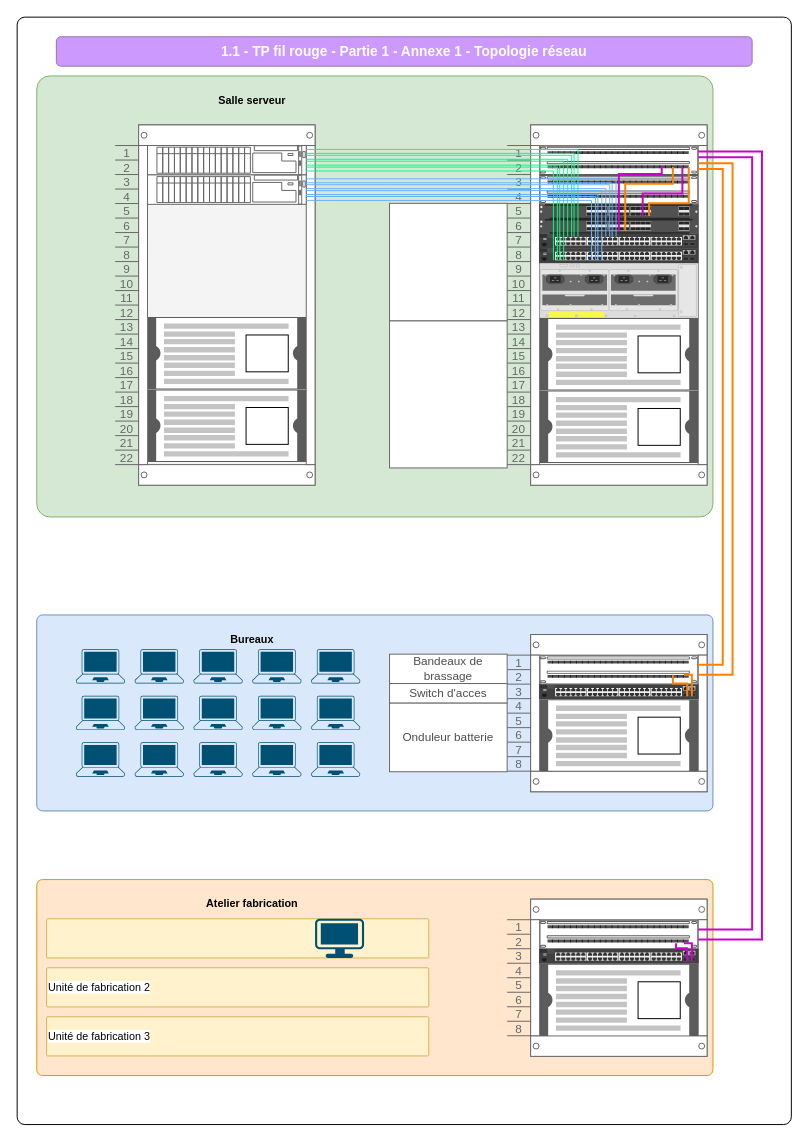
Some shapes in this 809 by 1142 pixel diagram are drawn without their labels. The box of each missing label's shape, as (x1, y1, x2, y2) in pixels:
Coeur de reseau modulaire 2 x 24 SFP+ 2 x 48 Gigabit Eth.: (389, 202, 507, 321)
Onduleur batterie x 2: (389, 320, 507, 468)
Unité de fabrication 1: (46, 918, 429, 958)
